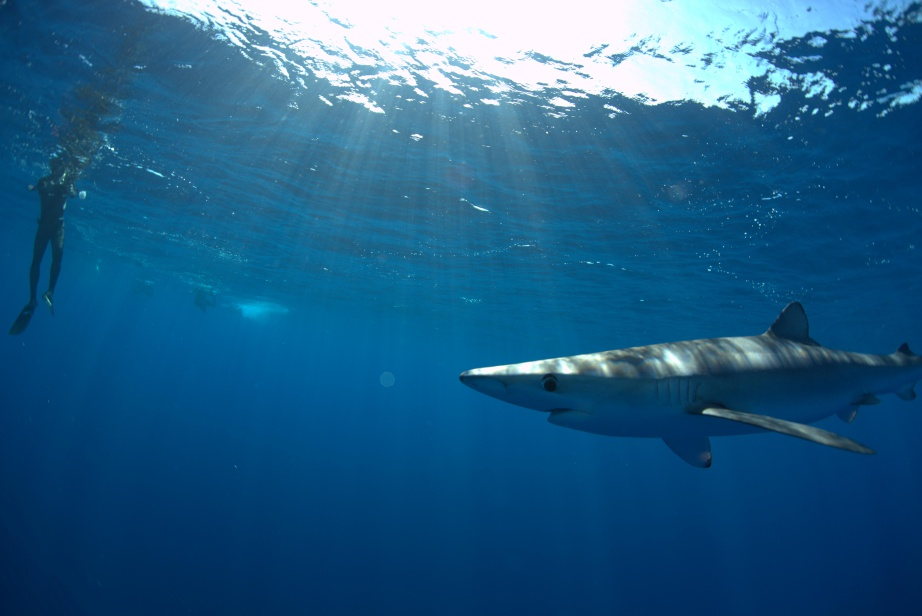Azul: (456, 272, 922, 475)
